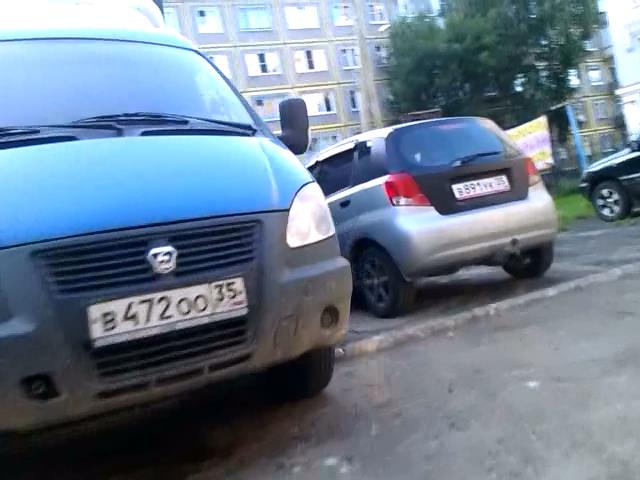car license plate: (82, 273, 251, 350), (451, 173, 512, 205)
